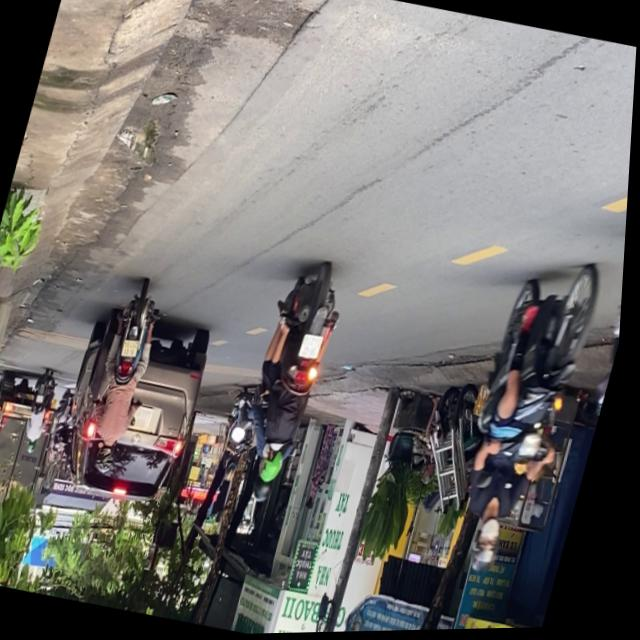helmet: (473, 517, 512, 575), (257, 438, 296, 488), (98, 442, 123, 477), (257, 478, 281, 507)
licenseplate: (440, 254, 614, 585), (229, 259, 357, 514), (83, 279, 175, 480)
nohelmet: (303, 335, 328, 363), (125, 339, 145, 360)
